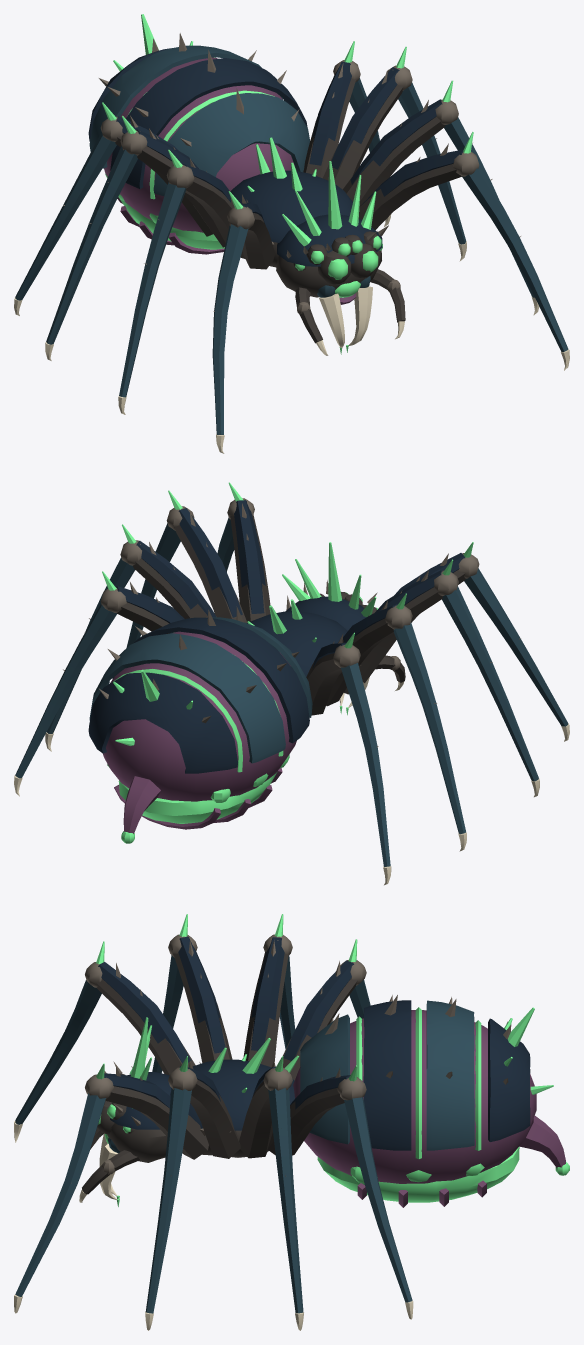
The model's file is Boss_BroodMother.fbx.
3 views of the same model, one above another, from view 1: azimuth 30°, elevation 25°; view 2: azimuth 150°, elevation 25°; view 3: azimuth 270°, elevation 25° (orthographic). The views are drawn at different scales.
Visible parts, largest first — view 1: Abdomen, Head, Thorax, LeftLeg2, LeftLeg1, LeftLeg3, HeadGlow, RightFoot3, RightFoot2, LeftLeg4, RightFoot1, LeftFoot1 (+14 smaller); view 2: Abdomen, LeftLeg1, LeftLeg2, RightFoot3, RightFoot2, LeftLeg3, RightFoot4, Thorax, LeftFoot4, RightFoot1, Belly, RightLeg3 (+10 smaller); view 3: Abdomen, RightLeg1, AbdomenGlow, RightLeg2, RightLeg3, LeftFoot3, LeftLeg1, LeftFoot2, LeftFoot4, RightLeg4, Head, LeftFoot1 (+11 smaller).
Boxes of the visible parts, x1,y1,x2,y2 form: Abdomen: (88, 33, 309, 254); Head: (276, 214, 388, 304); Thorax: (230, 170, 352, 267); LeftLeg2: (343, 99, 458, 205); LeftLeg1: (358, 143, 479, 229); LeftLeg3: (322, 65, 412, 189); HeadGlow: (282, 161, 382, 297); RightFoot3: (45, 146, 137, 360); RightFoot2: (118, 182, 186, 414); LeftLeg4: (303, 60, 360, 178); RightFoot1: (212, 224, 248, 453); LeftFoot1: (462, 166, 569, 370); Abdomen: (88, 606, 312, 833); LeftLeg1: (227, 498, 270, 621); LeftLeg2: (166, 506, 247, 622); RightFoot3: (393, 622, 466, 851); RightFoot2: (442, 586, 539, 797); LeftLeg3: (120, 540, 216, 618); RightFoot4: (340, 663, 391, 885); Thorax: (247, 611, 360, 676); LeftFoot4: (14, 604, 116, 796); RightFoot1: (464, 568, 569, 741); Belly: (118, 772, 277, 823); RightLeg3: (326, 600, 412, 706); Abdomen: (293, 995, 565, 1207); RightLeg1: (85, 962, 195, 1075); AbdomenGlow: (350, 1007, 569, 1183); RightLeg2: (168, 934, 232, 1063); RightLeg3: (243, 934, 292, 1067); LeftFoot3: (268, 1088, 303, 1330); LeftLeg1: (85, 1066, 208, 1159); LeftFoot2: (145, 1088, 191, 1330); LeftFoot4: (344, 1097, 413, 1319); RightLeg4: (283, 960, 366, 1080); Head: (97, 1061, 171, 1162); LeftFoot1: (14, 1093, 105, 1313).
Bounding box in the file's own units: 20.99 × 11.28 × 23.34.
